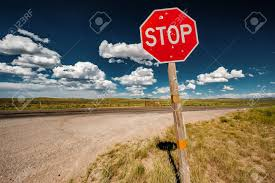Stop: (132, 9, 214, 84)
